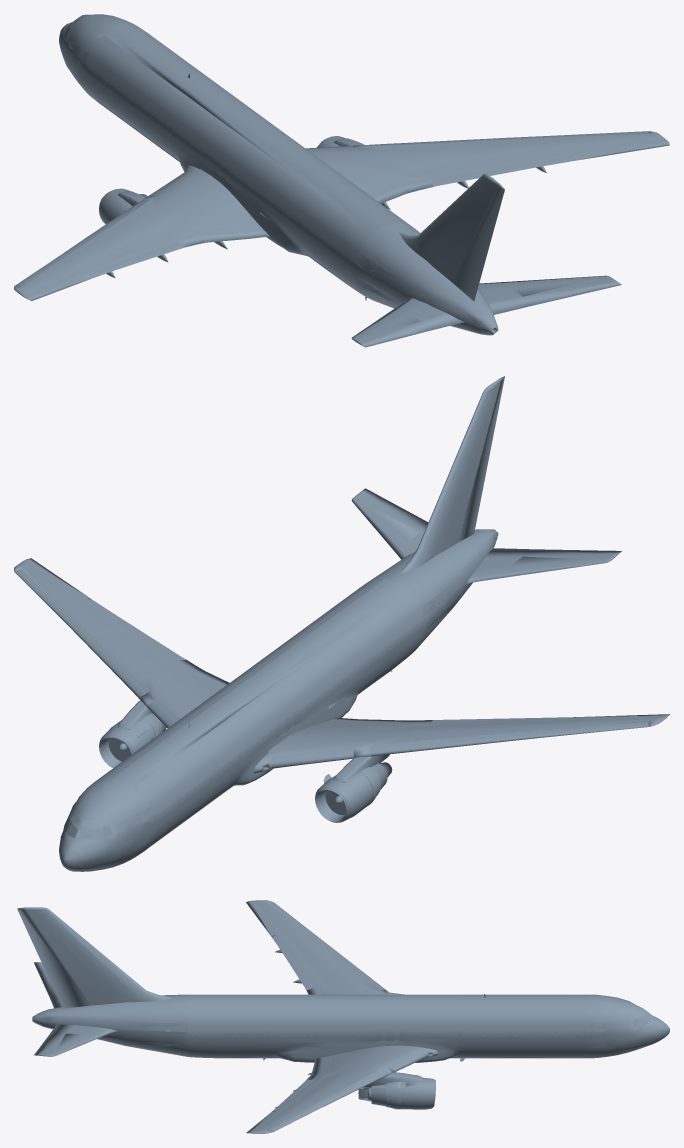
3 renders of one model, top to bottom at view 1: azimuth 30°, elevation 25°; view 2: azimuth 150°, elevation 25°; view 3: azimuth 270°, elevation 25°, orthographic. The views are drawn at different scales.
Bounding box in the file's own units: 46.31 × 15.01 × 55.2.
